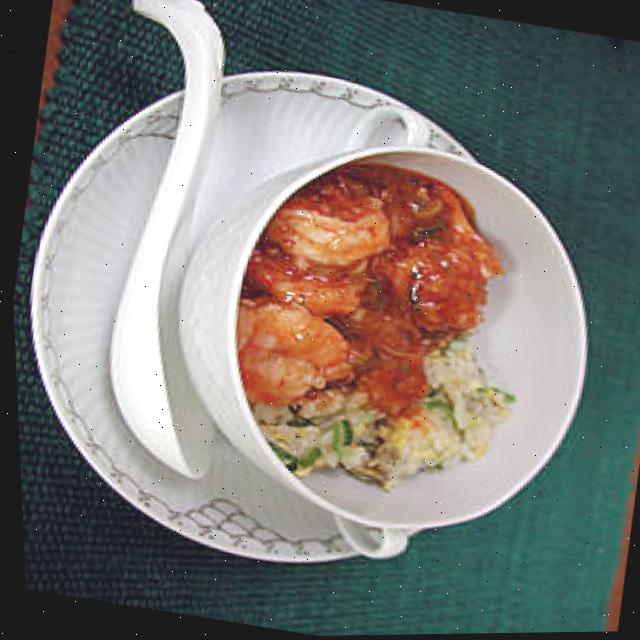熟制海鲜: (139, 66, 640, 614)
